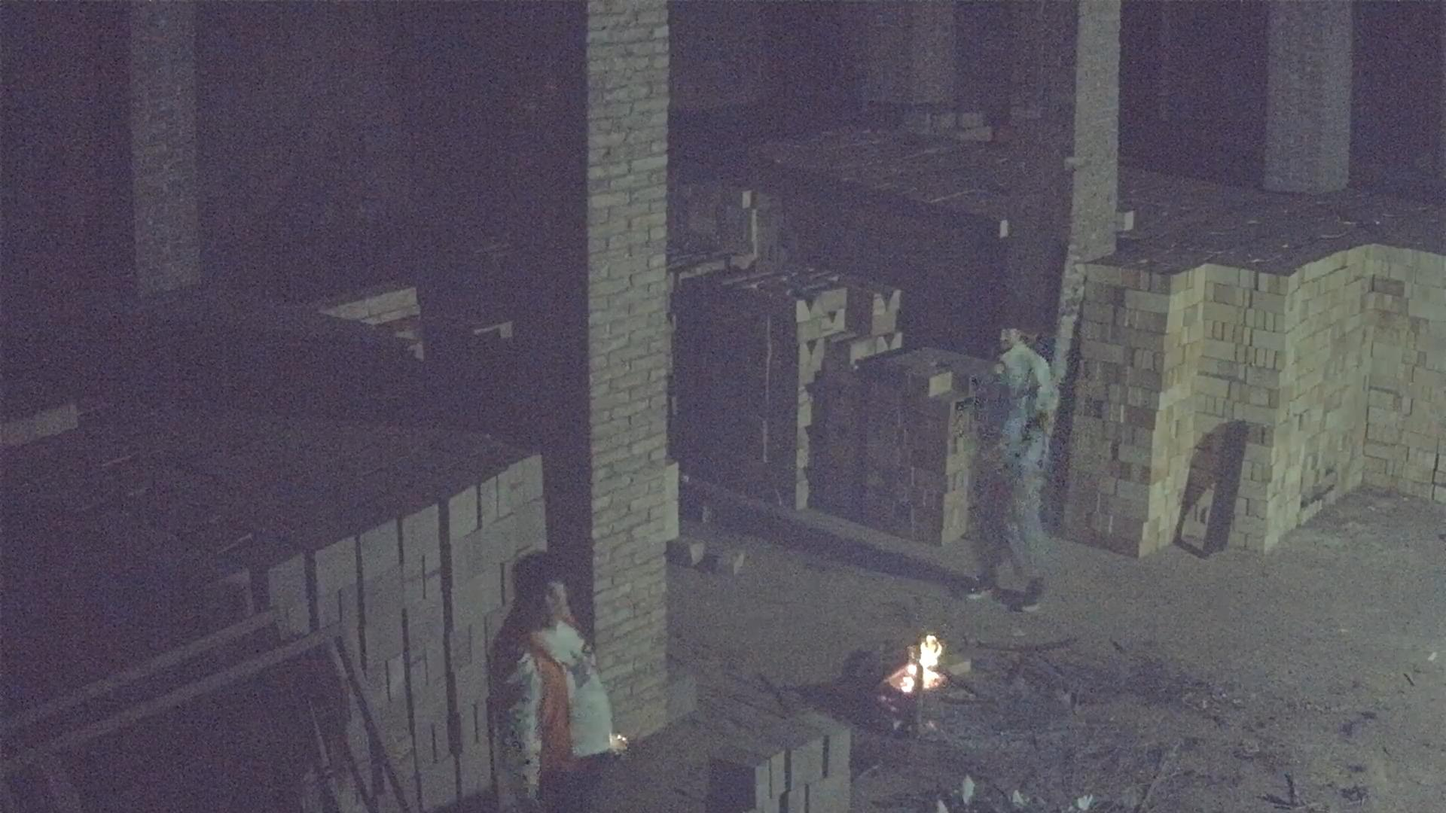fire: (898, 634, 944, 693)
